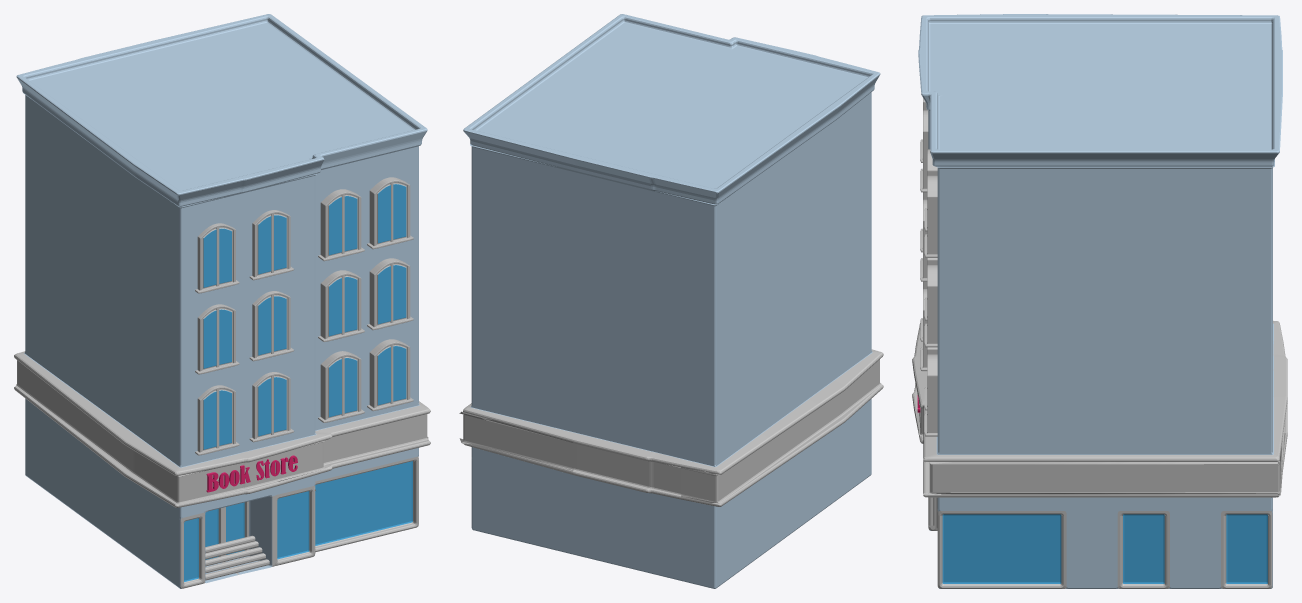
File: BookstoreNEW.fbx
3 views of the same model, side by side, from view 1: azimuth 30°, elevation 25°; view 2: azimuth 150°, elevation 25°; view 3: azimuth 270°, elevation 25° (orthographic). The views are drawn at different scales.
Parts seen in each view (by area): view 1: Cube.102; view 2: Cube.102; view 3: Cube.102.
Part boxes in pixels (left/top/right/bottom): Cube.102: left=14, top=14, right=430, bottom=588; Cube.102: left=459, top=14, right=883, bottom=588; Cube.102: left=912, top=14, right=1287, bottom=588.
Size of the model in its own units: 6323 by 9053 by 6990.
